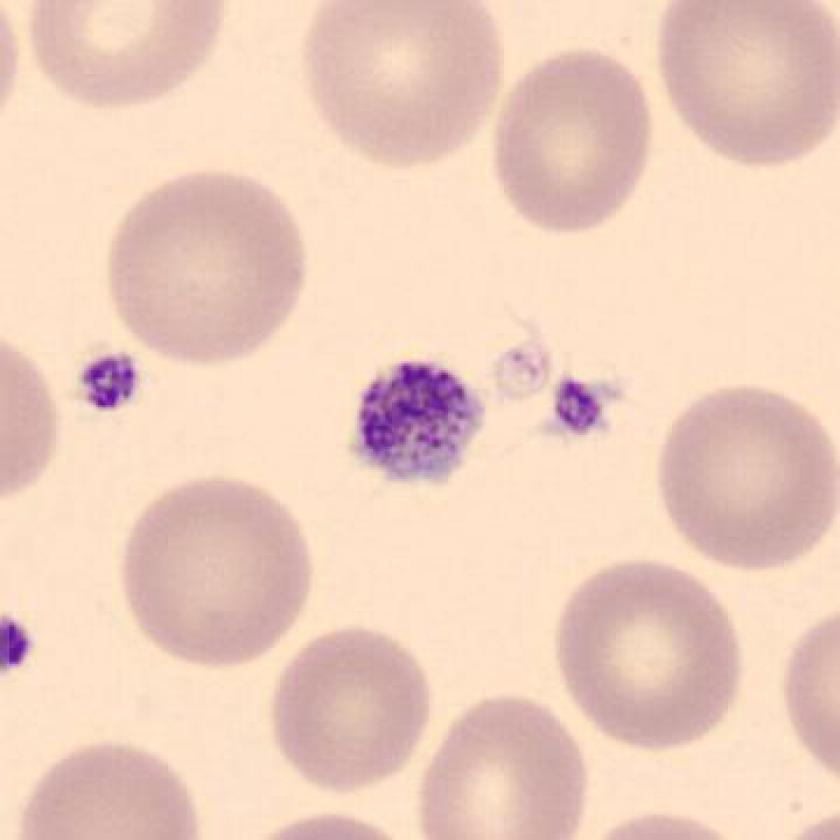platelets: (344, 351, 498, 499), (547, 372, 622, 446), (71, 346, 141, 420), (1, 607, 43, 677)
